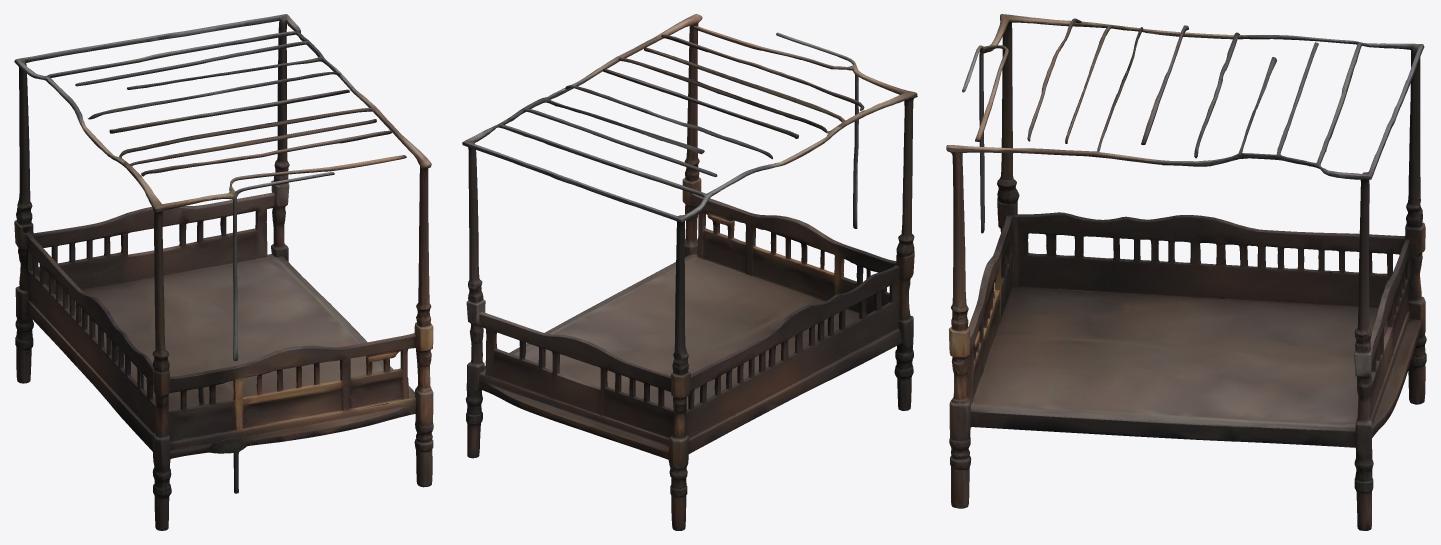
File: wooden_canopy_bed_frame_000.glb
3 views of the same model, side by side, from view 1: azimuth 30°, elevation 25°; view 2: azimuth 150°, elevation 25°; view 3: azimuth 270°, elevation 25° (orthographic). The views are drawn at different scales.
Parts seen in each view (by area): view 1: phase2_final_wooden_canopy_bed_frame_000.obj; view 2: phase2_final_wooden_canopy_bed_frame_000.obj; view 3: phase2_final_wooden_canopy_bed_frame_000.obj.
Part boxes in pixels (x1=…): phase2_final_wooden_canopy_bed_frame_000.obj: x1=14, y1=14, x2=433, y2=530; phase2_final_wooden_canopy_bed_frame_000.obj: x1=462, y1=14, x2=917, y2=530; phase2_final_wooden_canopy_bed_frame_000.obj: x1=946, y1=14, x2=1426, y2=530.
Bounding box in the file's own units: 0.8779 × 0.9363 × 1.1.
Materials: 1 (1 with a texture image).
